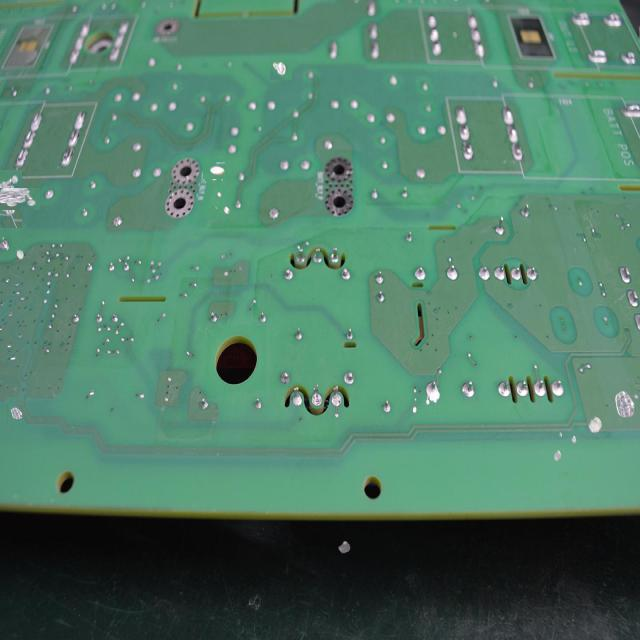spillover: (0, 179, 30, 219), (270, 58, 292, 82), (7, 398, 24, 425), (204, 160, 224, 180)
